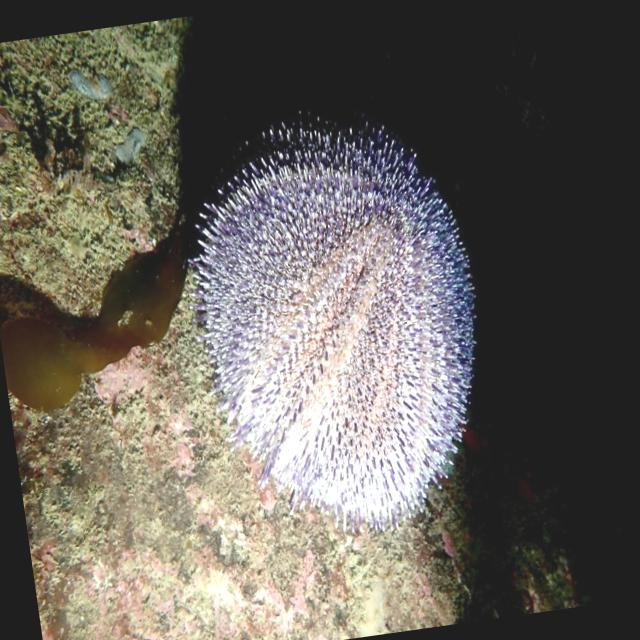Deniz Kestanesi: (168, 90, 505, 554)
